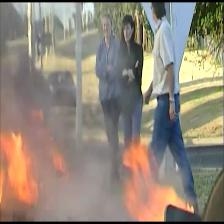fire: (0, 118, 224, 222)
